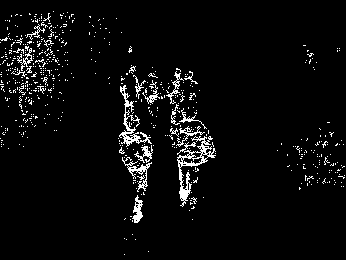person: (118, 117, 156, 224), (173, 106, 212, 209), (185, 65, 206, 115), (123, 61, 141, 116), (148, 61, 165, 114), (172, 64, 181, 110)
